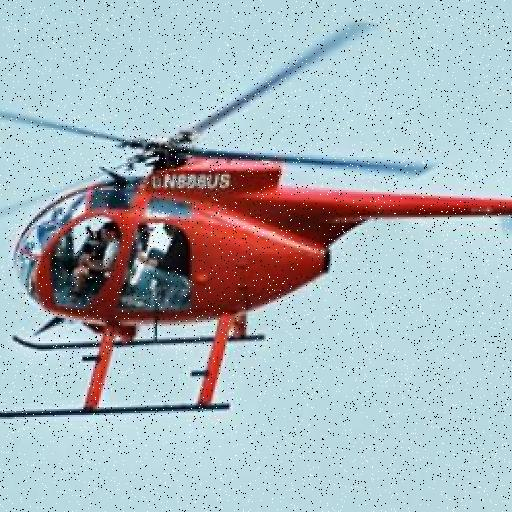helicopter: (1, 22, 512, 420)
